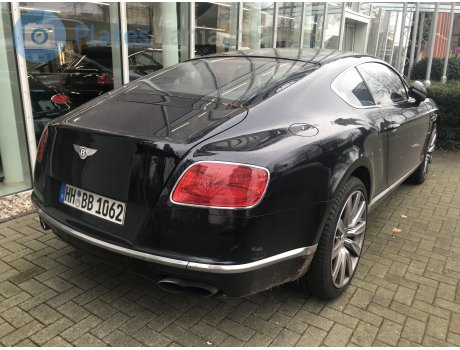License Plates: (65, 187, 119, 217)
